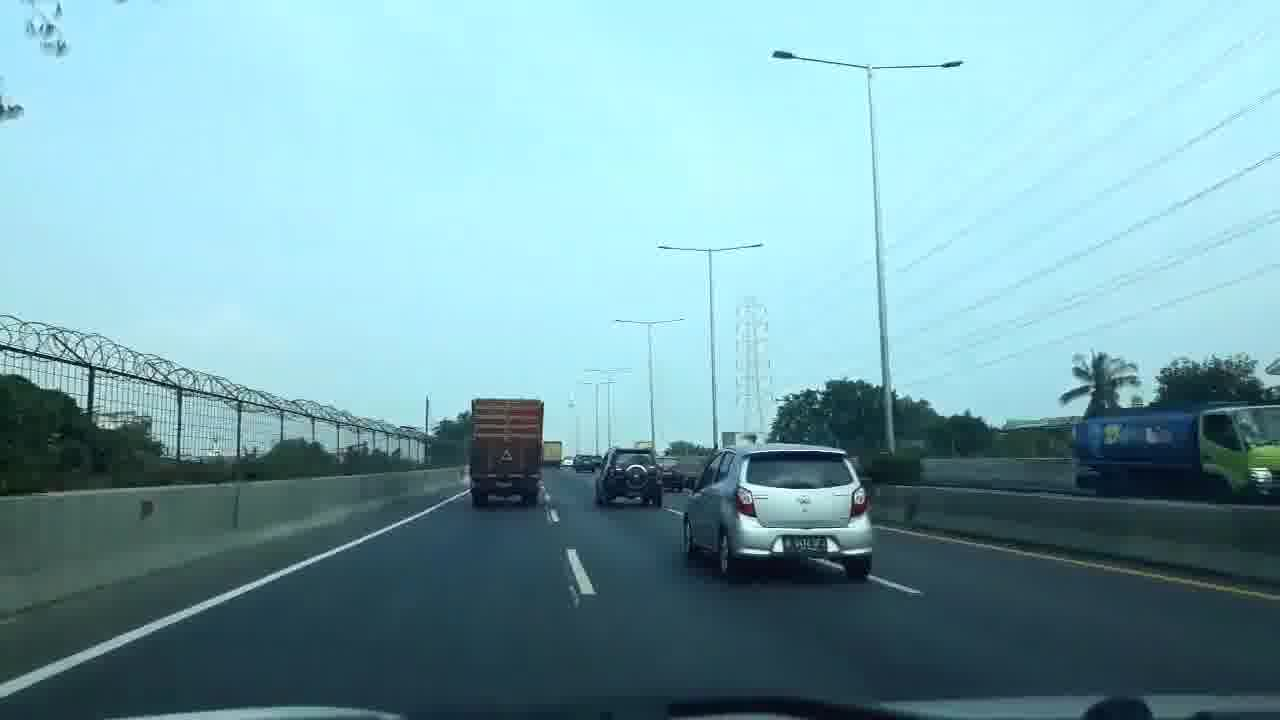plate_positive: (782, 535, 827, 553)
